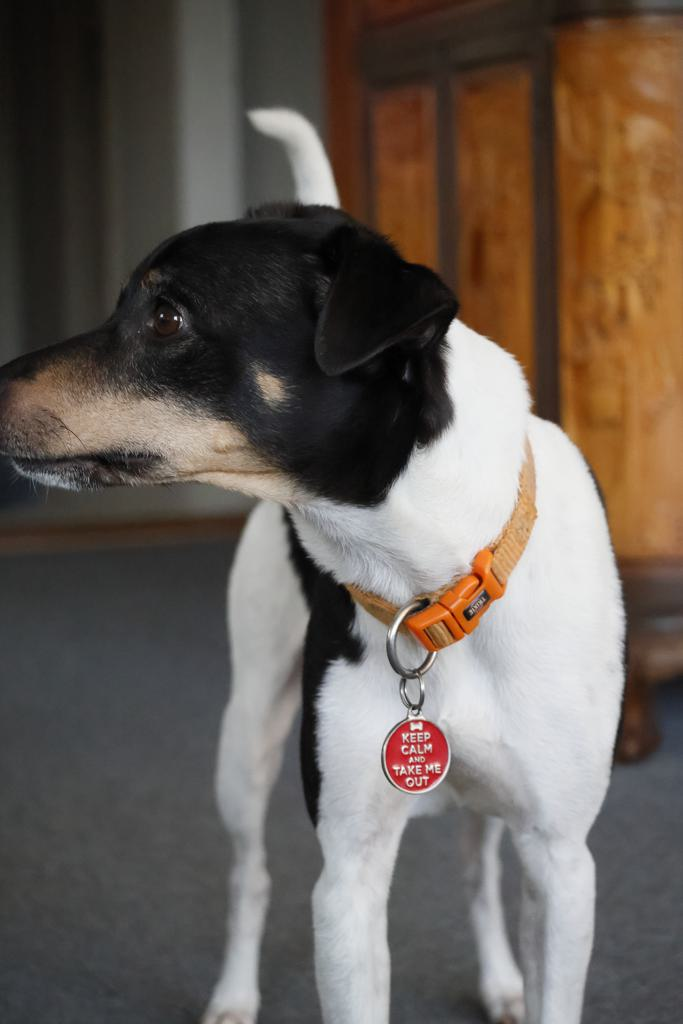Dog: (0, 98, 642, 1022)
